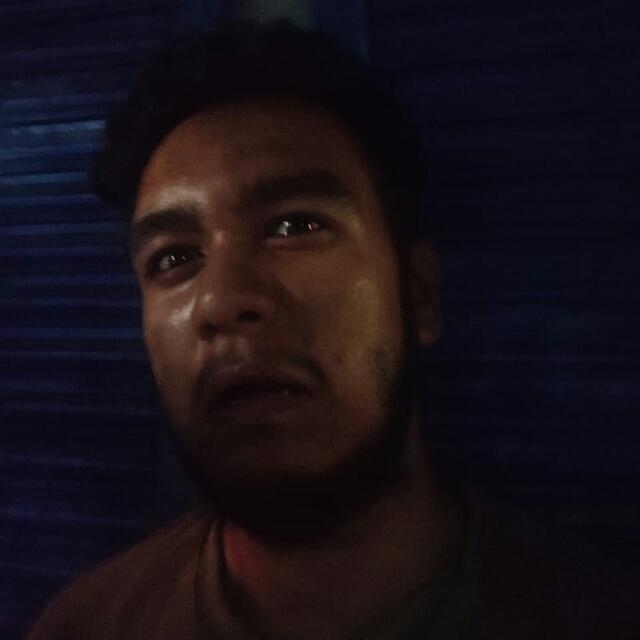Disgust: (89, 85, 451, 509)
